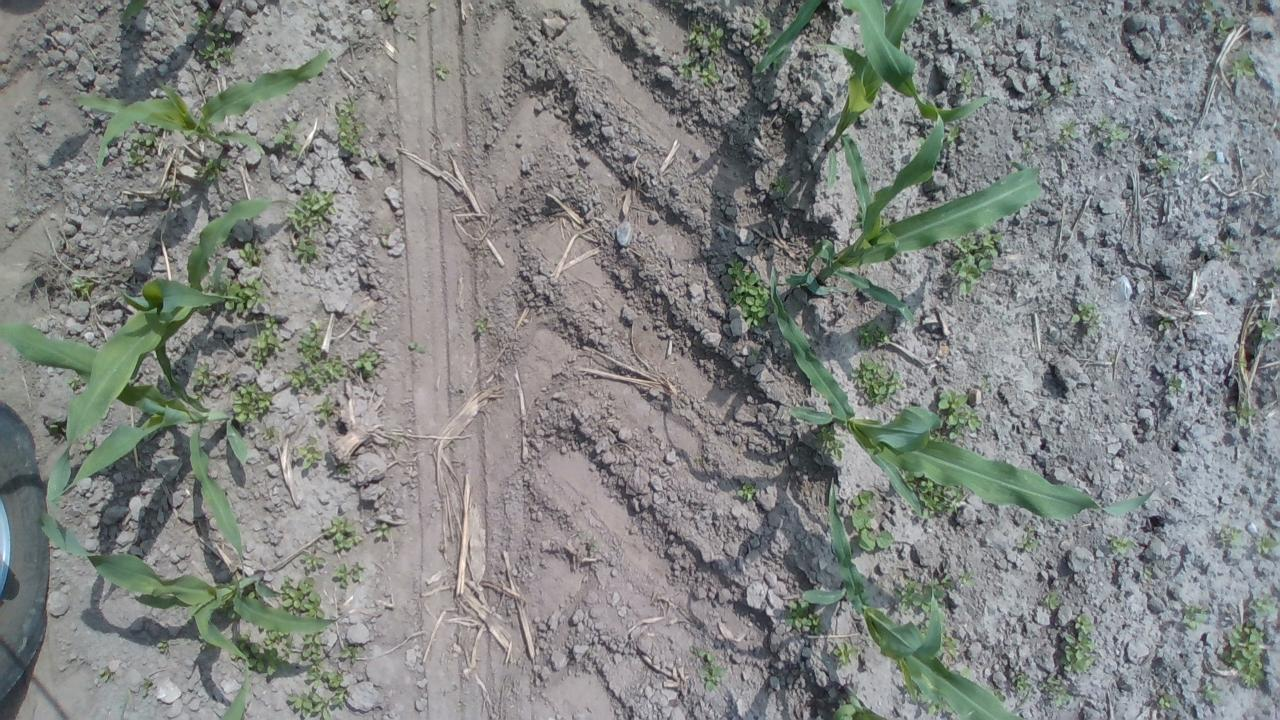Maize: (768, 267, 1157, 520), (48, 195, 273, 503), (36, 505, 342, 719), (0, 320, 252, 566), (780, 99, 1046, 328), (801, 478, 1024, 720), (751, 3, 990, 186), (76, 48, 332, 168)
Weeds: (254, 578, 361, 718), (288, 326, 344, 392), (284, 188, 332, 262), (954, 232, 1004, 300), (726, 257, 776, 325), (1216, 628, 1270, 689), (848, 490, 897, 554), (680, 21, 729, 80), (896, 574, 972, 612), (904, 470, 962, 516), (1056, 612, 1096, 676), (192, 14, 235, 69), (852, 356, 899, 406), (936, 391, 981, 436), (228, 382, 272, 424), (688, 643, 724, 692), (246, 316, 278, 370), (332, 101, 361, 156), (210, 280, 262, 308), (116, 132, 152, 172), (320, 515, 356, 550), (778, 600, 818, 630), (904, 682, 940, 715), (811, 426, 844, 461), (924, 620, 956, 656), (272, 121, 305, 154), (190, 362, 218, 397), (1036, 680, 1071, 706), (230, 629, 252, 669), (860, 320, 889, 350), (330, 562, 362, 589), (1070, 302, 1099, 331), (830, 640, 860, 668), (1182, 606, 1212, 633), (1096, 118, 1132, 140), (953, 66, 975, 102), (750, 14, 773, 45), (346, 354, 380, 374), (296, 446, 322, 472), (298, 549, 326, 573), (1227, 55, 1256, 78), (1249, 596, 1280, 616), (236, 242, 259, 268), (1108, 534, 1135, 556), (1252, 534, 1278, 556), (1256, 320, 1280, 340), (1216, 528, 1244, 545), (1231, 406, 1259, 423), (1152, 158, 1178, 176), (1014, 666, 1028, 698), (314, 399, 331, 425), (1016, 534, 1038, 554), (1057, 121, 1080, 140), (130, 681, 152, 700), (71, 279, 94, 297), (979, 10, 994, 34), (1043, 590, 1062, 608), (737, 484, 755, 502), (946, 123, 964, 141), (1058, 80, 1076, 98), (1166, 378, 1184, 395), (1198, 684, 1216, 700), (358, 314, 372, 334), (408, 343, 427, 357), (1220, 236, 1234, 255), (1160, 697, 1178, 711), (98, 666, 112, 684), (1218, 16, 1235, 30), (474, 318, 486, 336), (1139, 567, 1153, 582), (374, 524, 389, 538), (156, 641, 170, 655), (382, 4, 396, 17), (436, 68, 448, 80), (1158, 321, 1166, 330)
